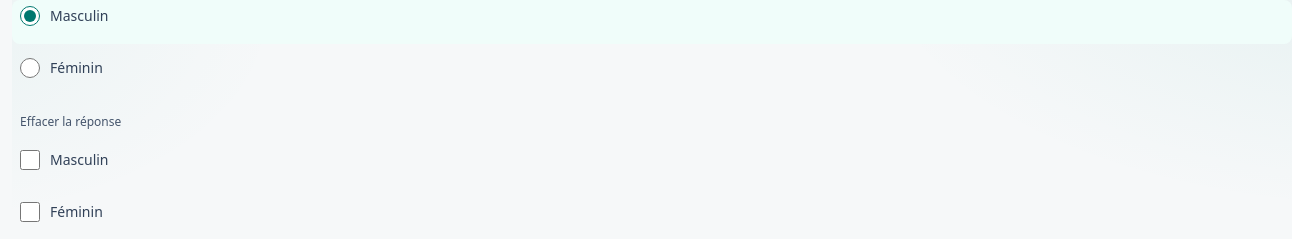
consignes réservées aux lecteurs d’écran et effacement court à l’écran
Click the button with aria-label "Effacer la réponse à Sexe" at {"x": 71, "y": 122}, box [12,100,129,144]
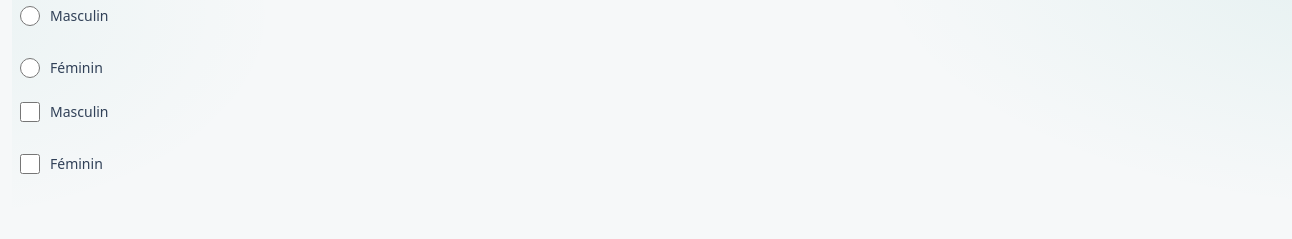
Check: the radio button labelled "Masculin" is not checked, box [20,6,40,26]
